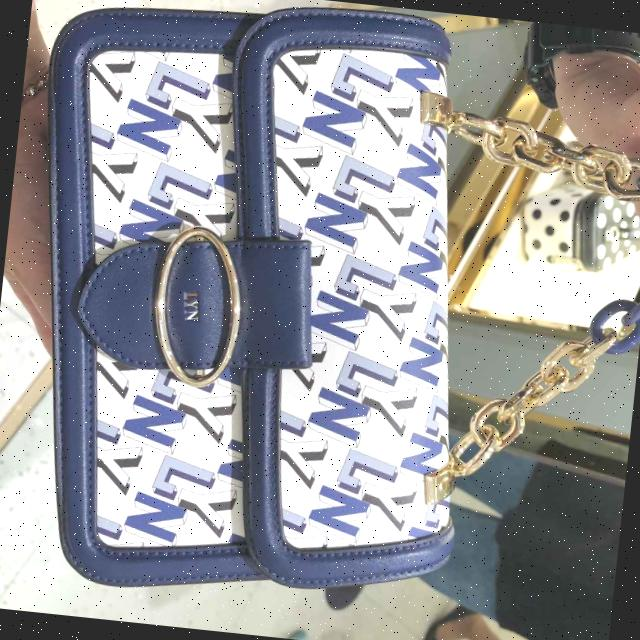Handbag: (0, 0, 525, 602)
